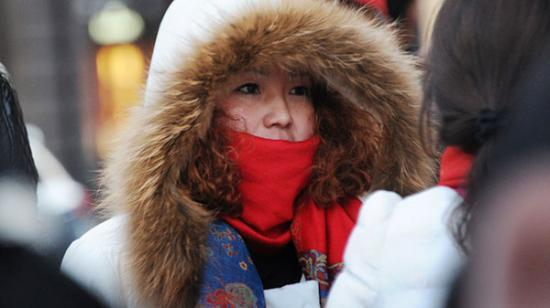face_mask: (224, 56, 322, 185)
